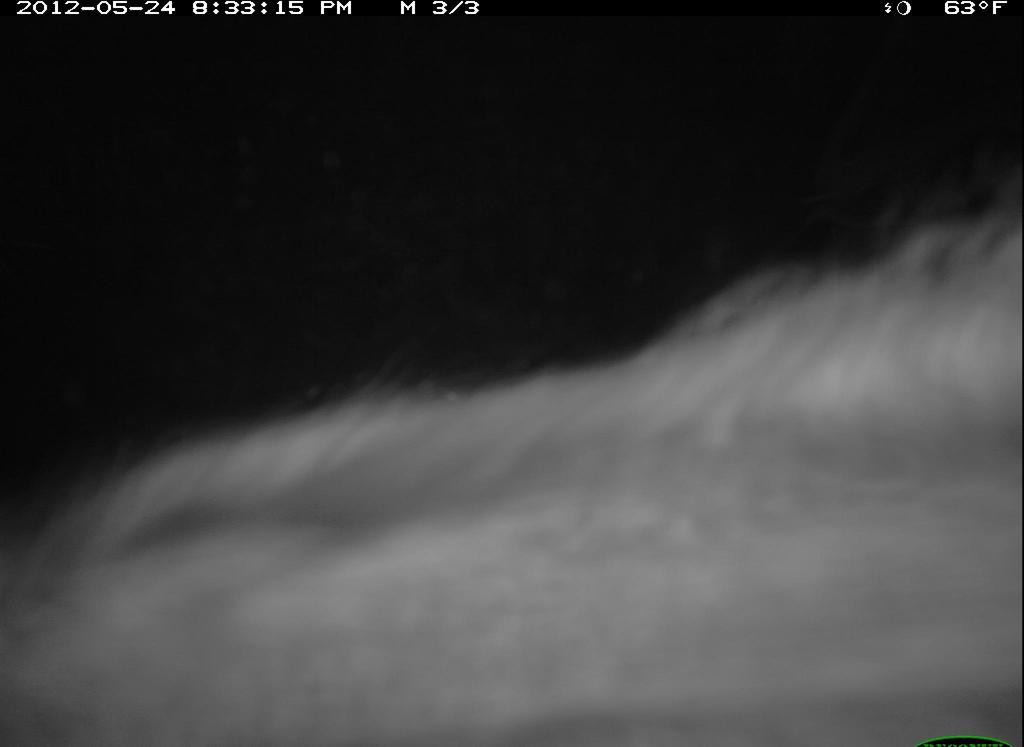raccoon: (3, 204, 1022, 747)
